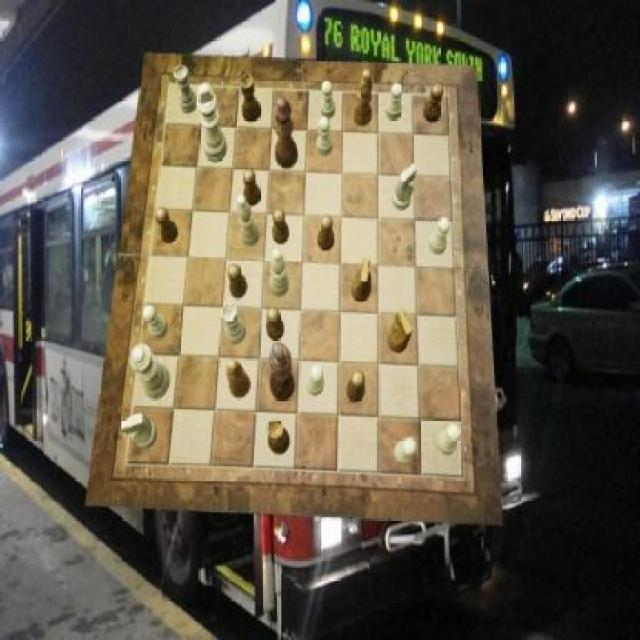bishop: (354, 69, 373, 127), (226, 360, 251, 400)
black-bishop: (270, 343, 296, 403)
black-king: (389, 309, 414, 353), (351, 257, 372, 302)
black-knight: (156, 208, 178, 244), (423, 85, 443, 123), (228, 263, 248, 298), (243, 169, 261, 207), (272, 208, 290, 244), (318, 216, 336, 252), (266, 308, 284, 340), (348, 371, 365, 403)
black-pawn: (274, 97, 298, 171)
black-queen: (240, 74, 261, 121), (268, 418, 290, 454)
black-rook: (237, 195, 260, 248), (269, 249, 289, 297)
white-bishop: (197, 83, 227, 162)
white-king: (121, 412, 158, 448), (392, 163, 417, 209)
white-knight: (143, 305, 169, 339), (429, 217, 450, 255), (437, 425, 460, 457), (317, 117, 334, 157), (385, 83, 402, 121), (394, 437, 417, 465), (320, 80, 336, 118), (306, 365, 324, 397)
white-pawn: (131, 344, 171, 400)
white-queen: (174, 66, 198, 114), (222, 303, 246, 345)
